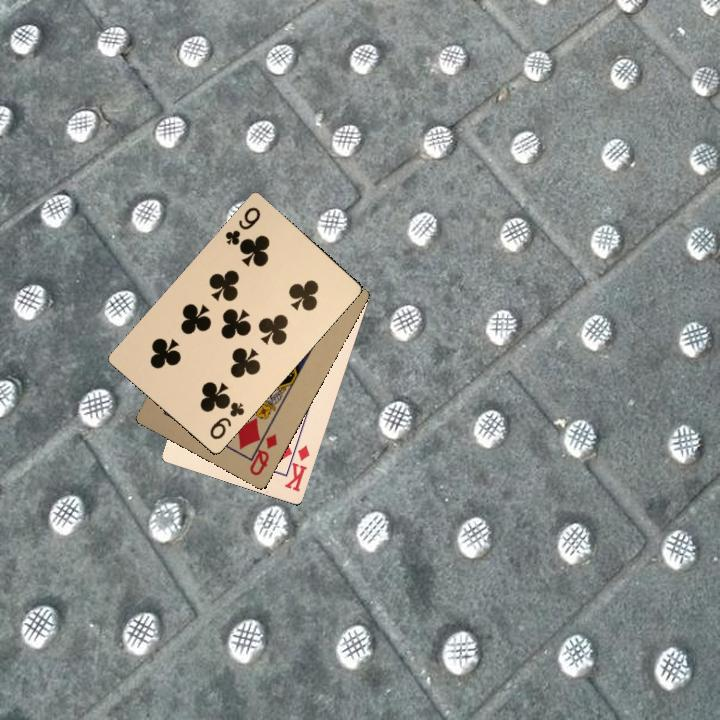9c: (205, 397, 247, 442), (221, 203, 263, 248)
Kd: (279, 440, 312, 495)
Qd: (246, 423, 280, 478)
